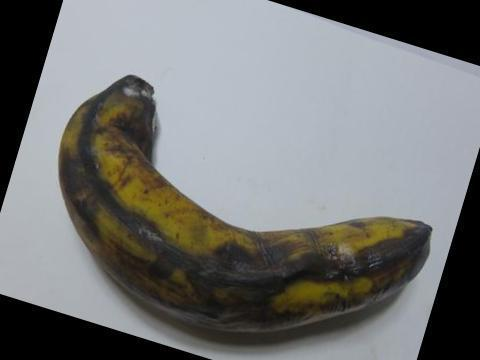overripe: (44, 59, 440, 359)
rotten: (88, 64, 201, 131)
